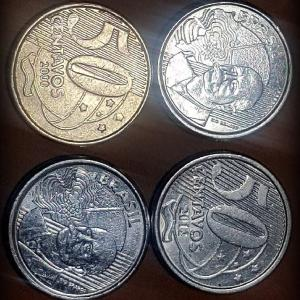50 cent: (0, 157, 150, 299), (11, 1, 153, 149), (154, 153, 295, 296), (157, 1, 293, 145)
